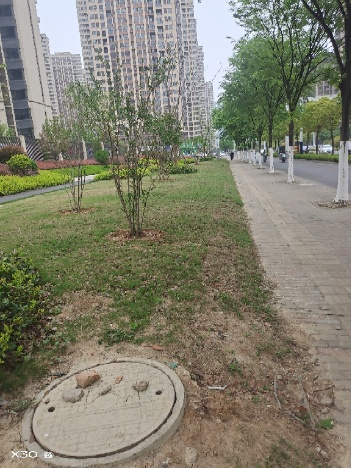good: (21, 356, 188, 468)
